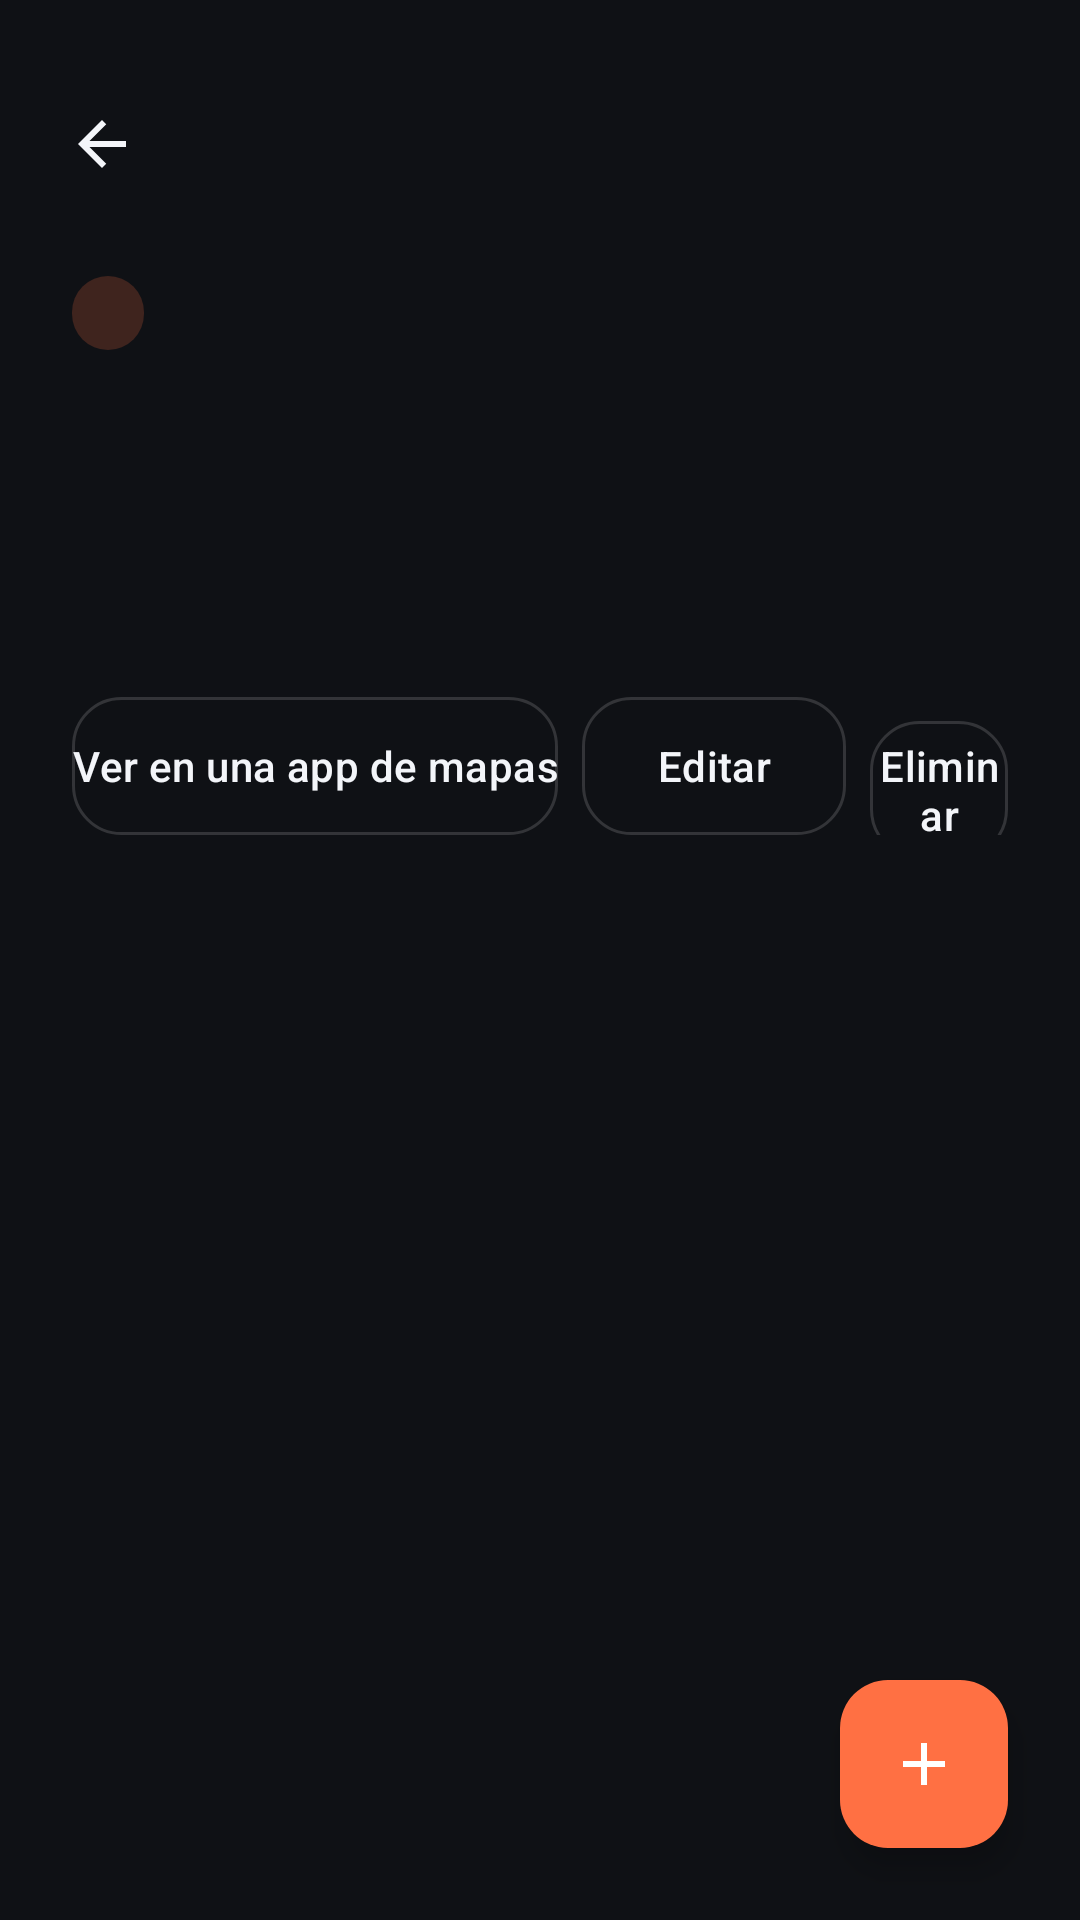

Where to tap for icons on this 1080px×1920px app screen, as (x,y):
Nuevo reclamo: (924,1764)
Volver: (102,144)
